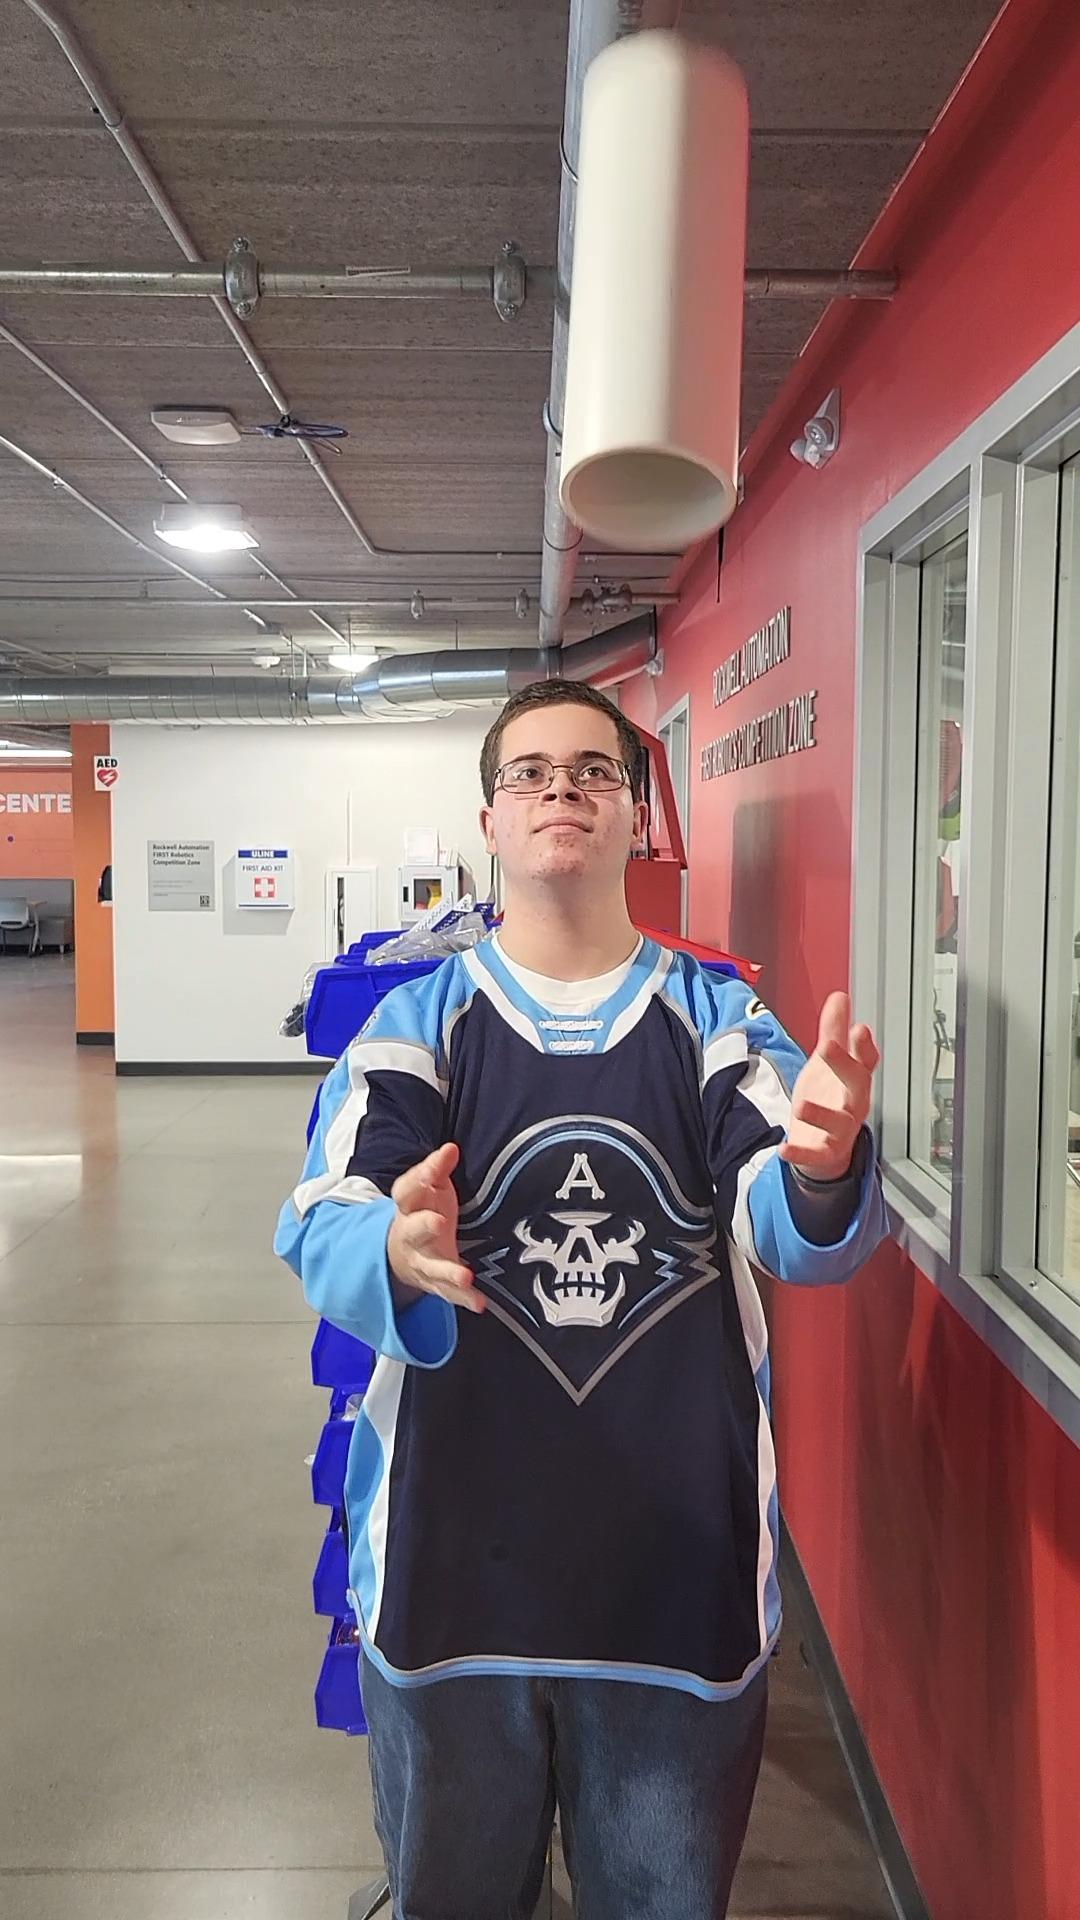coral: (554, 26, 766, 560)
